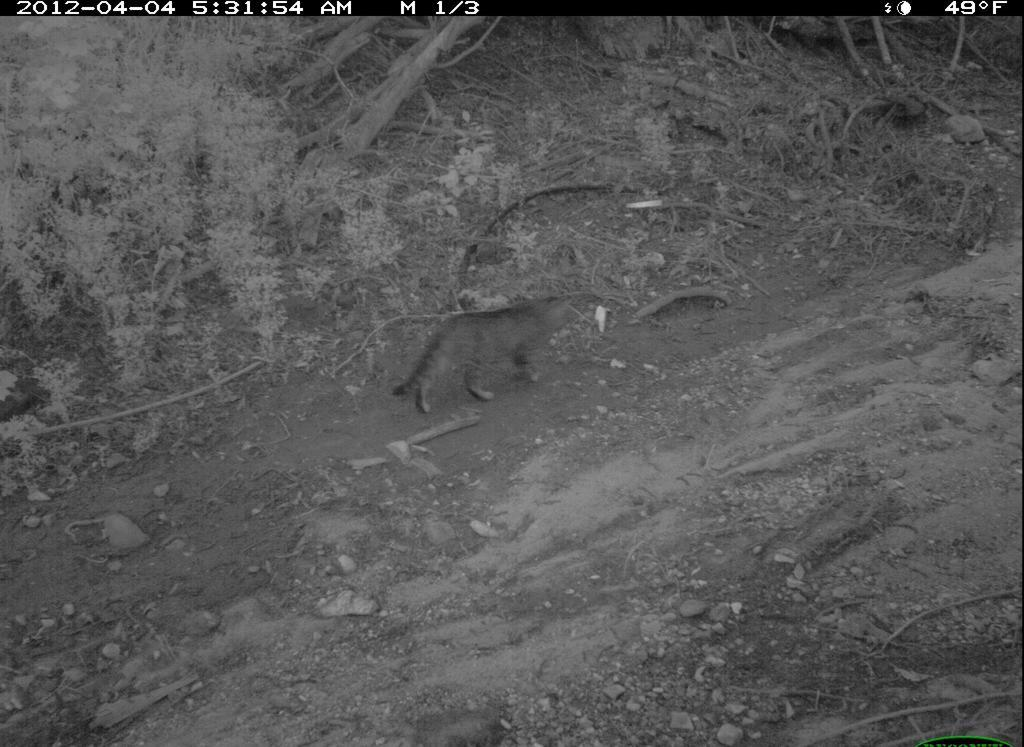cat: (389, 286, 582, 420)
